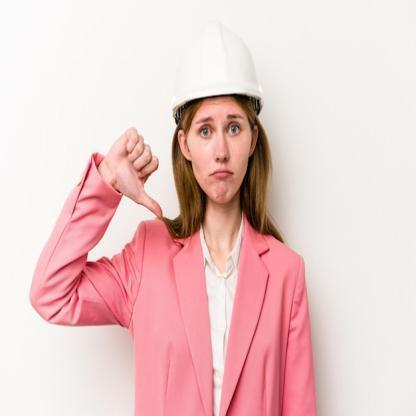thumb_down: (108, 122, 165, 224)
